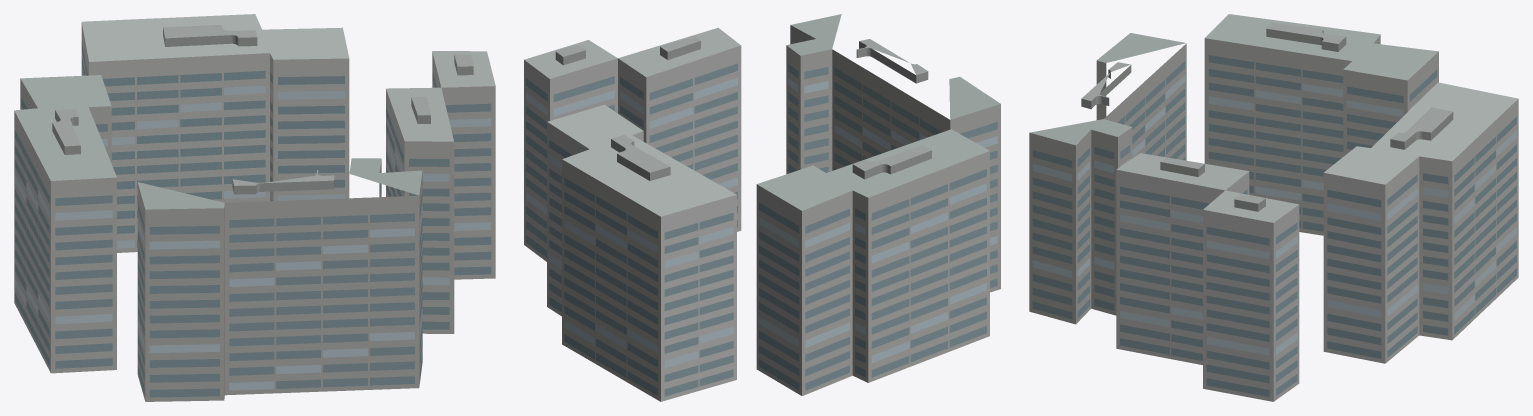
Rendered from apt-a12084302.glb.
The picture shows the model from 3 angles, left to right: view 1: azimuth 30°, elevation 25°; view 2: azimuth 150°, elevation 25°; view 3: azimuth 270°, elevation 25°; orthographic projection. The views are drawn at different scales.
Visible parts, largest first — view 1: apt-a12084302; view 2: apt-a12084302; view 3: apt-a12084302.
Boxes of the visible parts, box(x1,y1,x2,y2) form: apt-a12084302: box(14, 14, 495, 401); apt-a12084302: box(524, 14, 1000, 401); apt-a12084302: box(1029, 14, 1518, 401).
Bounding box in the file's own units: 99.23 × 41.43 × 98.16.
